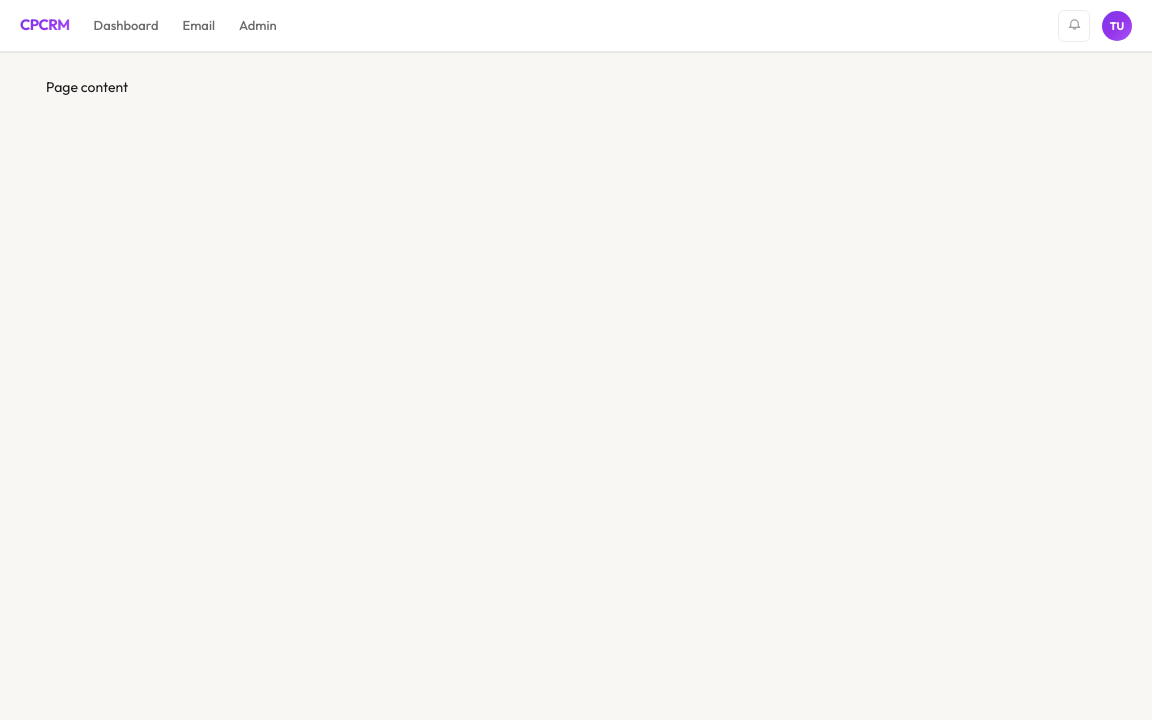
Test case: AppShell › shows Platform link in the profile dropdown when user is a super-admin
# Open the profile dropdown
Click the button with aria-label "User menu".
click(1117, 26)  # box x1=1102 y1=10 x2=1132 y2=40
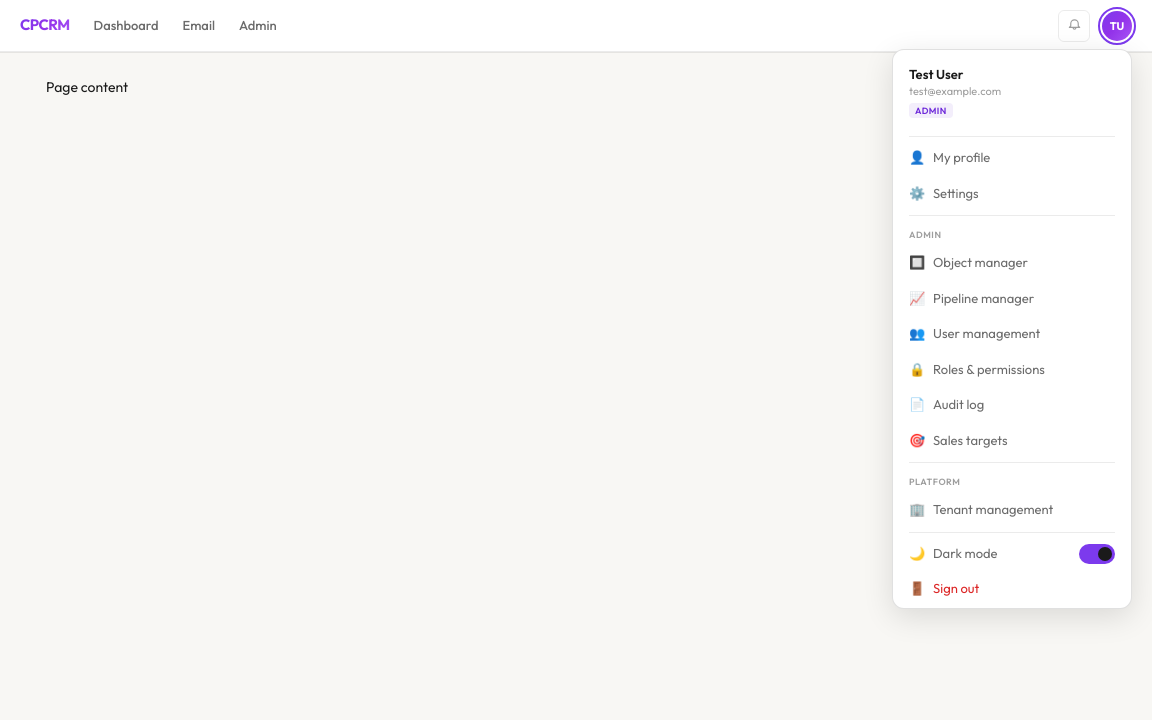
Now the menu item "🏢 Tenant management" is shown, box x1=909 y1=501 x2=1053 y2=517
